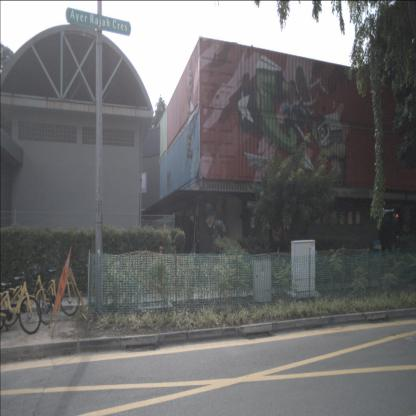human-pedestrian-adult: (271, 224, 280, 282)
vehicle-bicycle: (1, 255, 53, 327), (0, 269, 42, 336), (38, 252, 80, 316)
